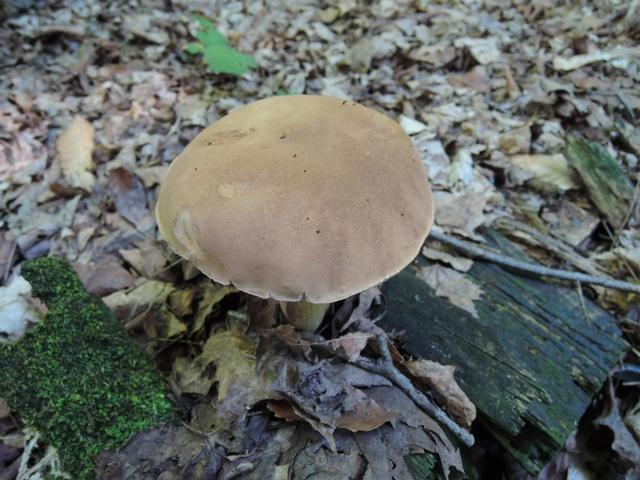poisonous_mushroom: (153, 92, 435, 333)
